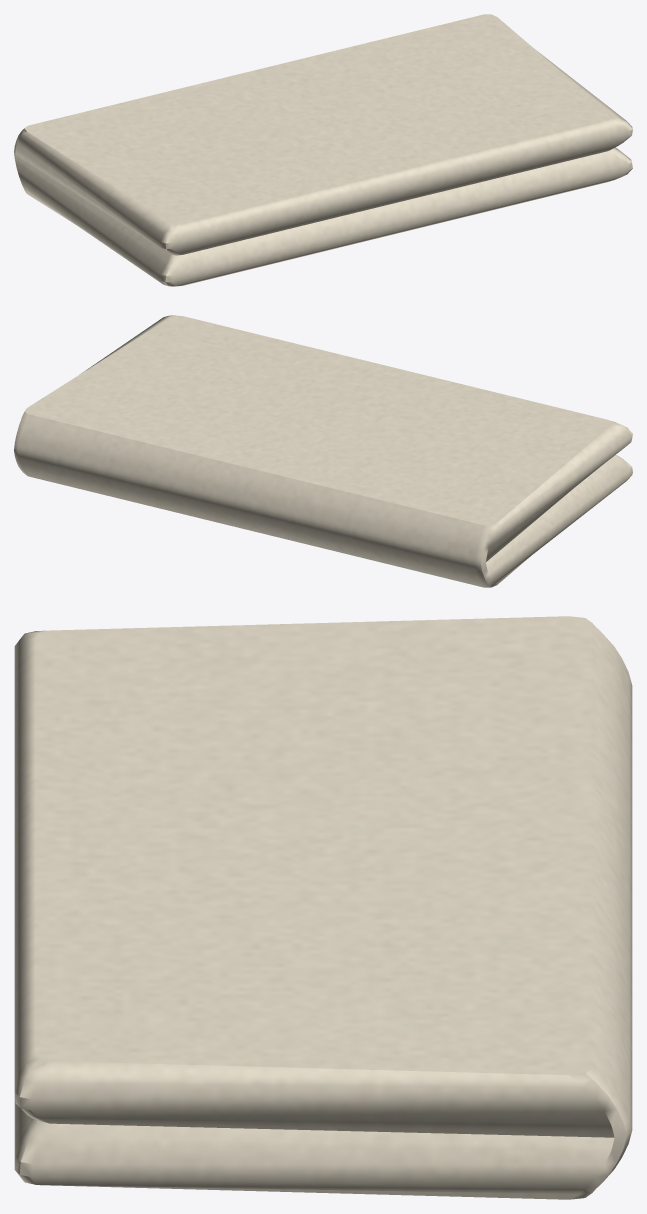
The model's file is blanket.fbx.
The picture shows the model from 3 angles, top to bottom: view 1: azimuth 30°, elevation 25°; view 2: azimuth 150°, elevation 25°; view 3: azimuth 270°, elevation 25°; orthographic projection. The views are drawn at different scales.
Visible parts, largest first — view 1: blanket; view 2: blanket; view 3: blanket.
Part boxes in pixels (x1,y1,x2,y2): blanket: (14,14,632,286); blanket: (14,315,632,587); blanket: (14,616,632,1199).
Size of the model in its own units: 54.32 by 6.85 by 30.79.
1 material, 1 textured.
